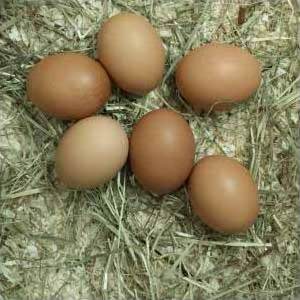egg: (173, 41, 262, 112), (26, 52, 113, 121), (54, 114, 130, 192), (130, 109, 196, 197), (187, 155, 259, 235), (97, 14, 166, 95)
